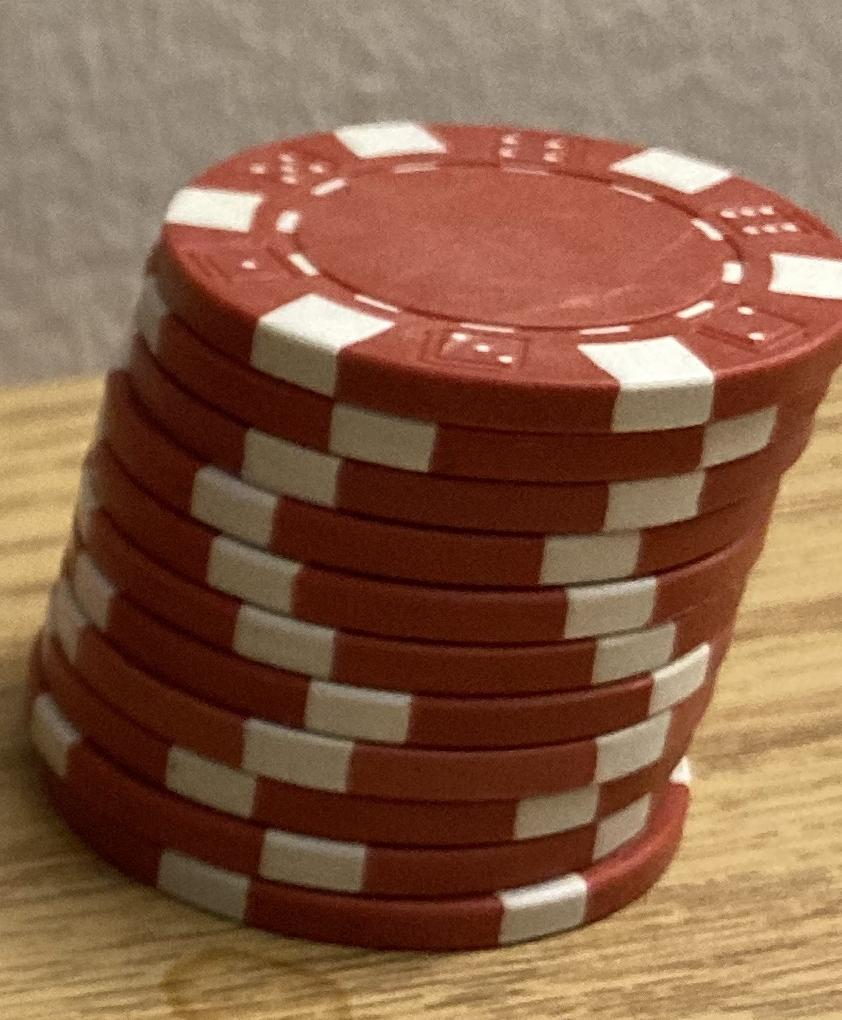Chip: (1, 1, 842, 1020)
